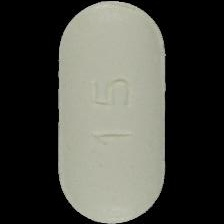58118-0150: (0, 0, 224, 224)
